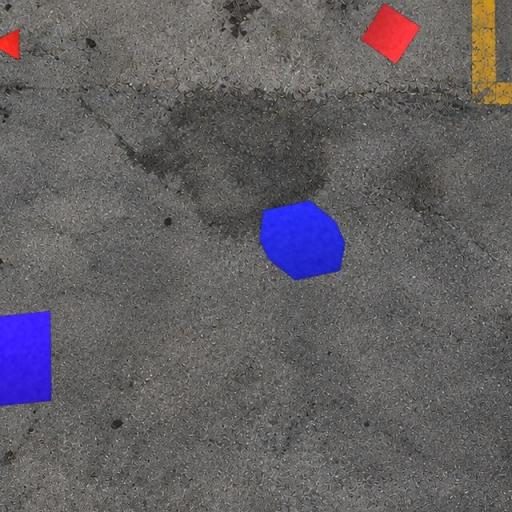BLUE_SQUARE: (0, 310, 53, 410)
RED_SQUARE: (360, 2, 422, 65)
